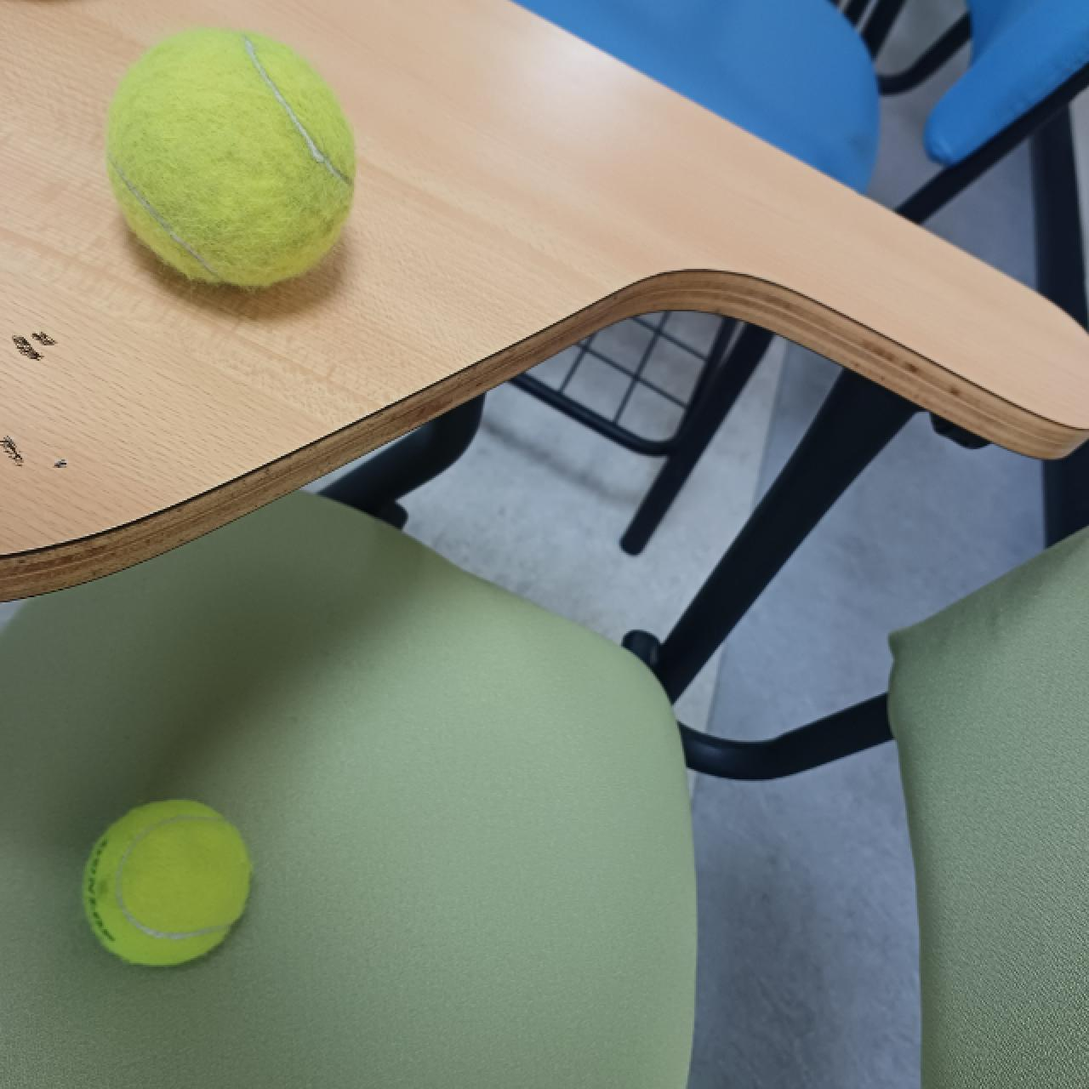tennis-ball: (105, 25, 356, 294), (79, 795, 252, 968)
